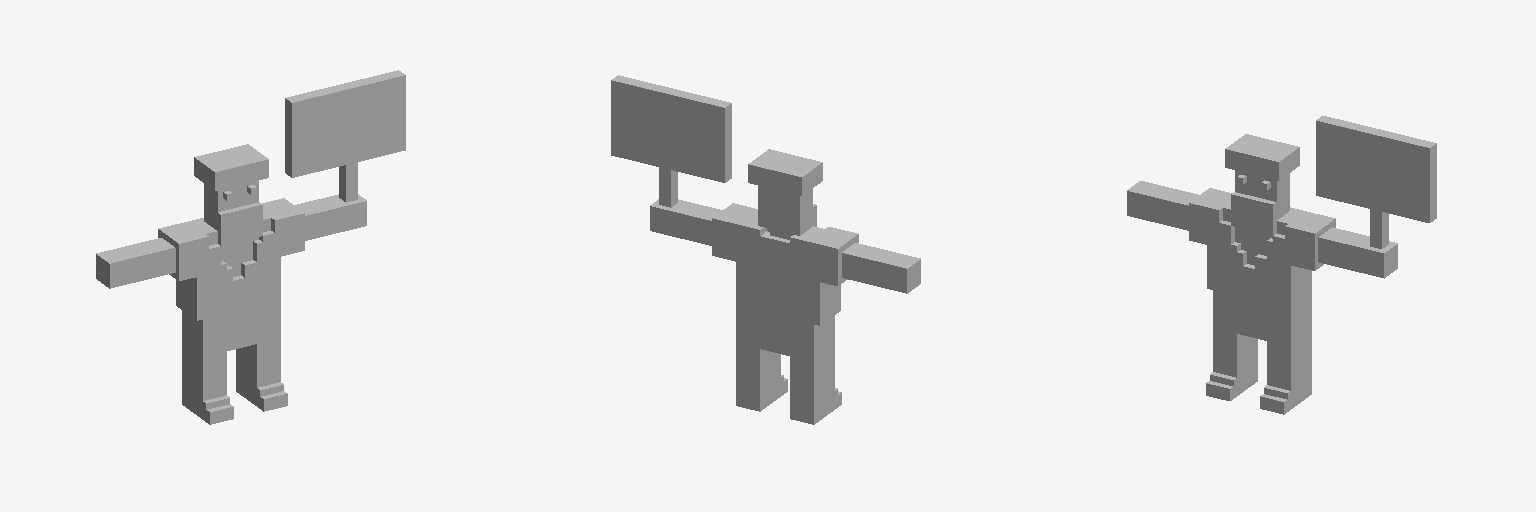
Rendered from food waiter colour.obj.
3 renders of one model, left to right at view 1: azimuth 30°, elevation 25°; view 2: azimuth 150°, elevation 25°; view 3: azimuth 330°, elevation 25°, orthographic.
Parts seen in each view (by area): view 1: food waiter colour; view 2: food waiter colour; view 3: food waiter colour.
Part boxes in pixels (x1,y1,x2,y2): food waiter colour: (96,70,405,424); food waiter colour: (611,75,920,424); food waiter colour: (1127,116,1436,414).
Size of the model in its own units: 50 by 46 by 8.